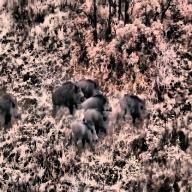boar: (47, 72, 84, 114), (116, 86, 145, 125), (69, 117, 98, 156), (0, 86, 25, 127), (79, 72, 103, 96), (84, 91, 112, 110), (80, 106, 104, 128)
